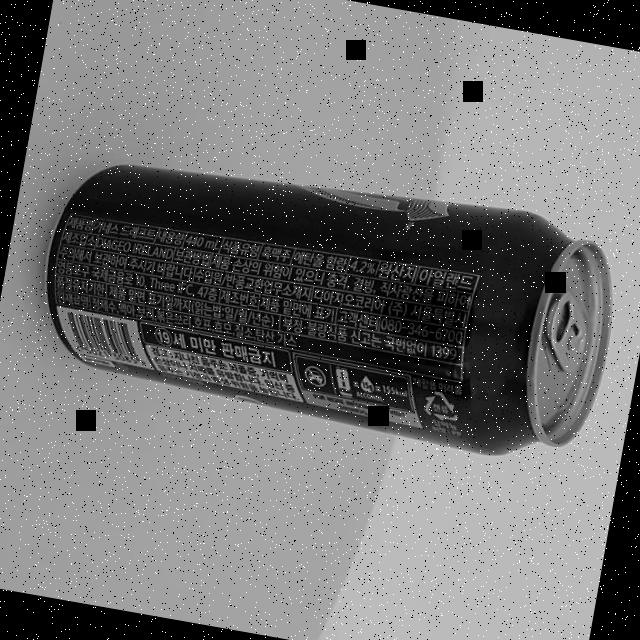can: (23, 130, 628, 472)
